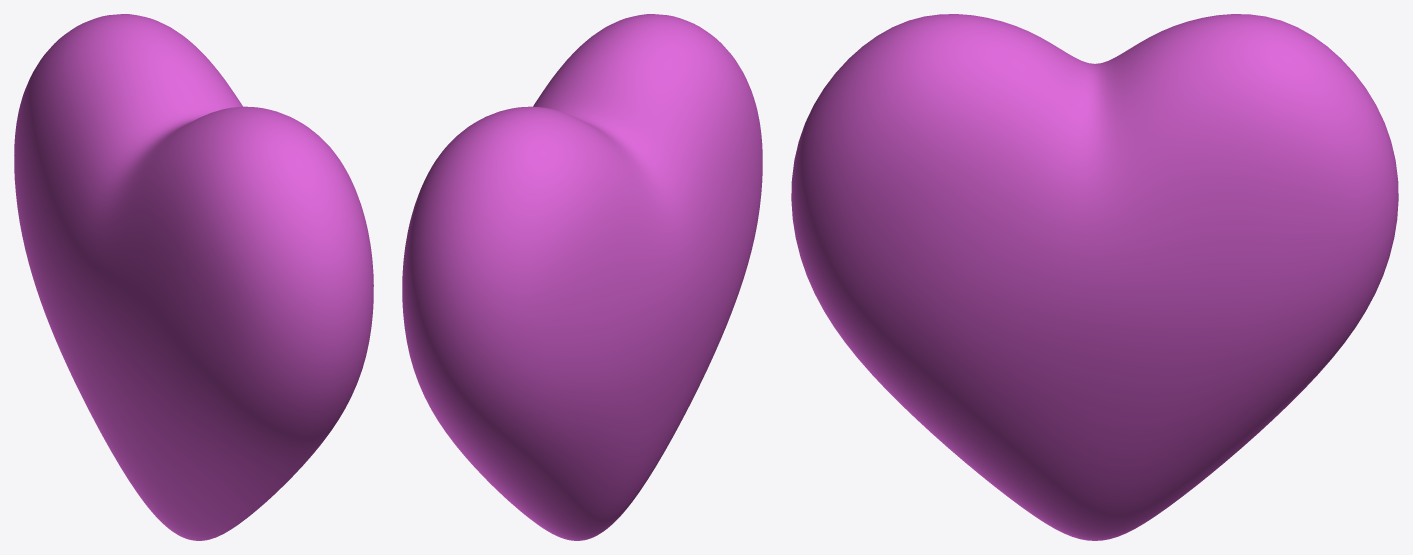
The model's file is heart.dae.
3 renders of one model, left to right at view 1: azimuth 30°, elevation 25°; view 2: azimuth 150°, elevation 25°; view 3: azimuth 270°, elevation 25°, orthographic. The views are drawn at different scales.
Parts seen in each view (by area): view 1: 12190_Heart_v1_L3; view 2: 12190_Heart_v1_L3; view 3: 12190_Heart_v1_L3.
Part boxes in pixels (bbox=[...]): 12190_Heart_v1_L3: bbox=[14, 14, 373, 540]; 12190_Heart_v1_L3: bbox=[402, 14, 762, 540]; 12190_Heart_v1_L3: bbox=[791, 14, 1398, 540].
Size of the model in its own units: 0.0457 by 0.1062 by 0.0996.
